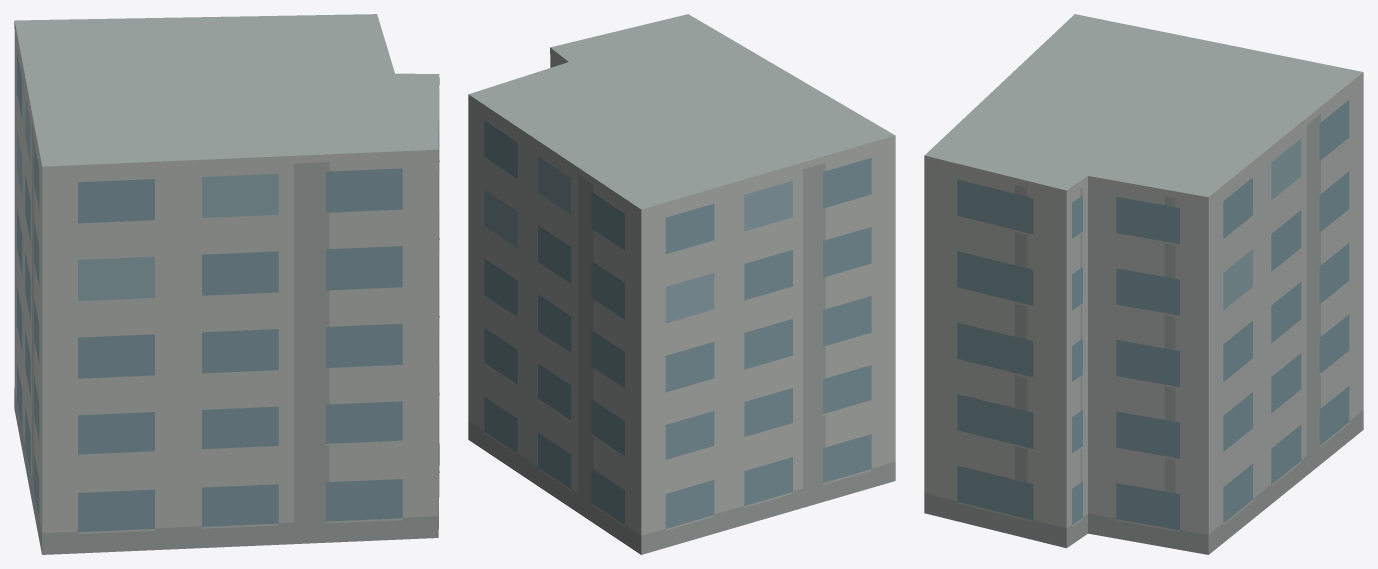
File: survey-upis-32728739.glb
3 renders of one model, left to right at view 1: azimuth 30°, elevation 25°; view 2: azimuth 150°, elevation 25°; view 3: azimuth 270°, elevation 25°, orthographic. The views are drawn at different scales.
Parts seen in each view (by area): view 1: survey-upis-32728739.tmp; view 2: survey-upis-32728739.tmp; view 3: survey-upis-32728739.tmp.
Boxes of the visible parts, <box> form: survey-upis-32728739.tmp: <box>14,14,439,554</box>; survey-upis-32728739.tmp: <box>468,14,895,554</box>; survey-upis-32728739.tmp: <box>924,14,1363,554</box>.
Bounding box in the file's own units: 13.3 × 12.1 × 13.47.
